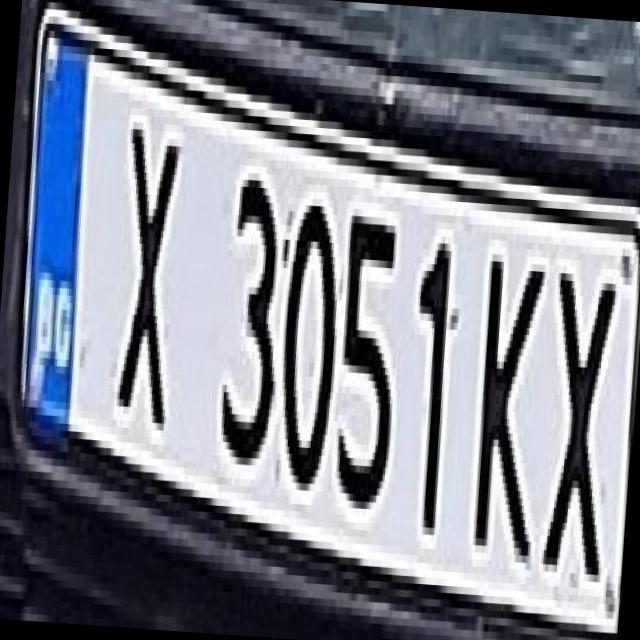0: (266, 182, 347, 484)
1: (390, 220, 469, 528)
3: (204, 150, 289, 466)
5: (322, 186, 410, 504)
K: (453, 231, 554, 563)
X: (524, 250, 628, 575), (100, 100, 192, 424)
